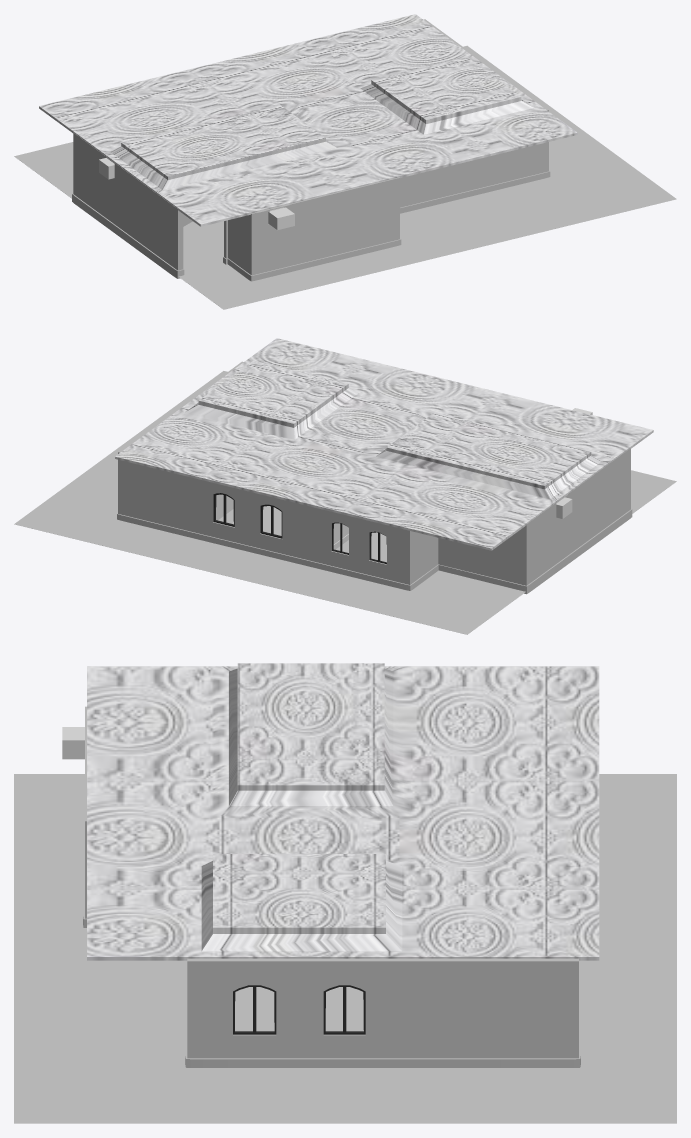
Rendered from House.fbx.
3 renders of one model, top to bottom at view 1: azimuth 30°, elevation 25°; view 2: azimuth 150°, elevation 25°; view 3: azimuth 270°, elevation 25°, orthographic. The views are drawn at different scales.
Visible parts, largest first — view 1: roof, Cube.021, floor; view 2: roof, Cube.021, floor; view 3: roof, floor, Cube.021.
Part boxes in pixels (x1,y1,x2,y2): roof: [39, 14, 577, 226]; Cube.021: [72, 19, 550, 281]; floor: [14, 45, 676, 309]; roof: [115, 338, 653, 550]; Cube.021: [117, 361, 632, 594]; floor: [14, 371, 676, 634]; roof: [87, 663, 599, 960]; floor: [14, 774, 676, 1123]; Cube.021: [62, 706, 580, 1067].
Bounding box in the file's own units: 5642 × 954 × 4468.
